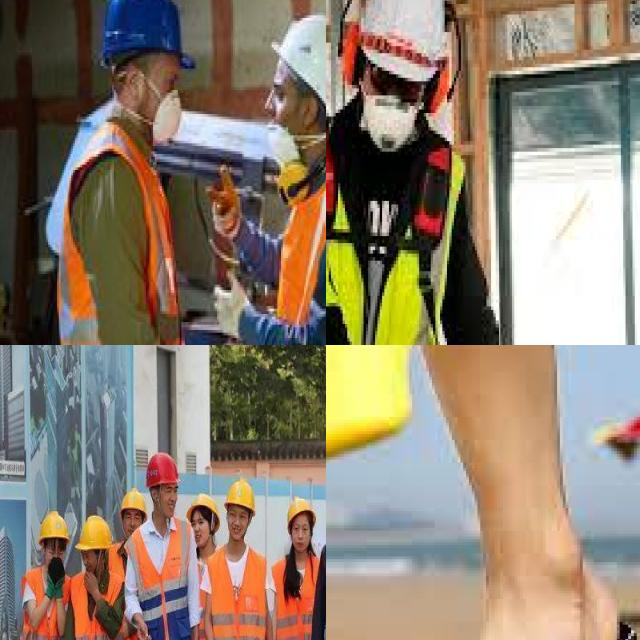Ear-protection: (336, 15, 366, 89), (426, 56, 449, 124)
face_mask: (262, 63, 316, 173), (135, 50, 187, 146)
glasses: (359, 53, 421, 106)
hand_glove: (206, 159, 244, 242), (212, 274, 250, 341), (46, 558, 68, 600)
hand_noglove: (84, 572, 102, 605), (136, 611, 153, 640), (188, 630, 205, 640)
head_helmet: (96, 0, 201, 74), (347, 0, 446, 78), (272, 7, 326, 116), (72, 516, 113, 550), (224, 478, 256, 514), (146, 452, 180, 485), (186, 494, 219, 526), (37, 510, 69, 543), (286, 500, 317, 528), (119, 493, 148, 517)
person: (326, 0, 548, 345), (57, 0, 192, 345), (259, 4, 326, 345), (132, 449, 200, 640), (211, 476, 268, 640), (276, 488, 321, 640), (69, 518, 125, 640), (184, 494, 229, 640), (31, 496, 75, 640), (116, 488, 144, 546)
vest: (326, 103, 454, 345), (62, 135, 184, 345), (270, 177, 326, 345), (133, 527, 200, 640), (208, 549, 273, 640), (274, 557, 324, 640), (18, 572, 71, 640), (67, 576, 122, 640), (193, 546, 212, 640)
